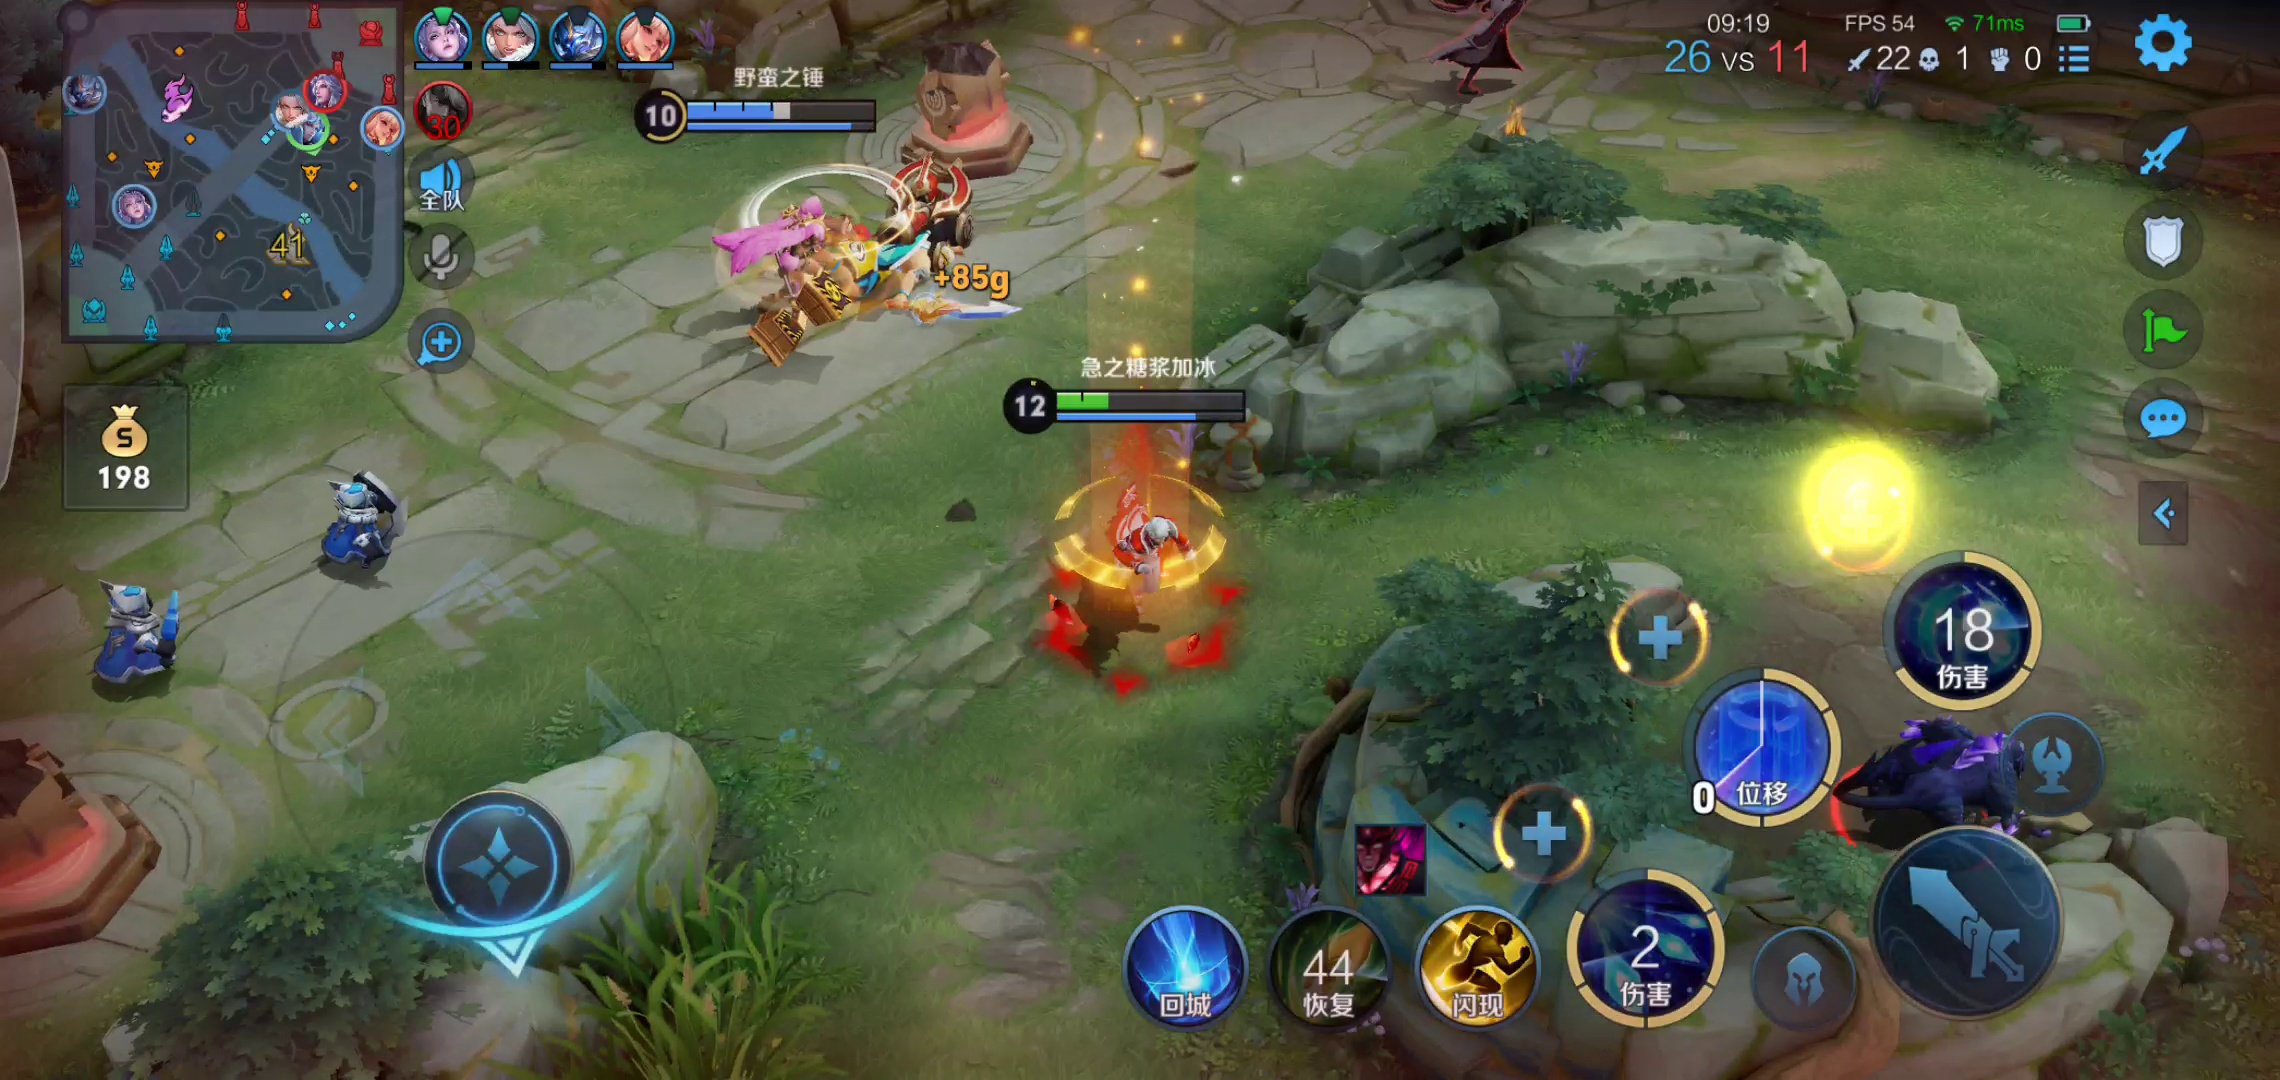grass: (560, 869, 854, 1073)
hero: (1044, 483, 1249, 657), (718, 198, 858, 349), (1424, 1, 1533, 106)
soldier: (87, 573, 196, 690), (874, 167, 979, 270), (307, 467, 409, 573)
wild_monster: (1823, 688, 2076, 906)
